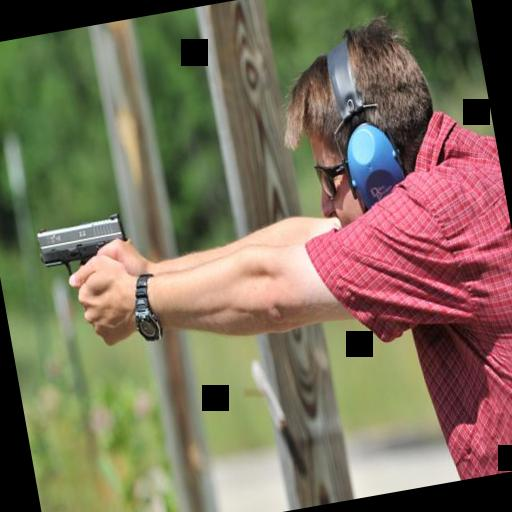Handgun: (30, 204, 140, 324)
